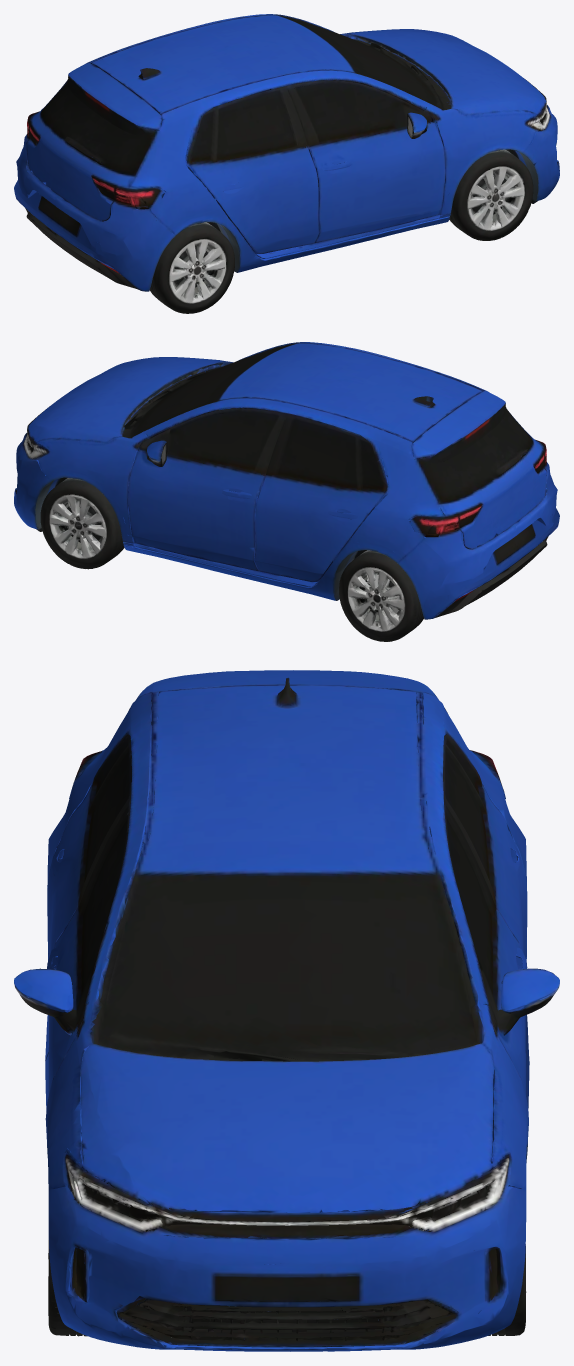
File: hatch.glb
The picture shows the model from 3 angles, top to bottom: view 1: azimuth 30°, elevation 25°; view 2: azimuth 150°, elevation 25°; view 3: azimuth 270°, elevation 25°; orthographic projection. The views are drawn at different scales.
Parts seen in each view (by area): view 1: tripo_node_4523f8f4-e891-464a-8ad8-ec9c19bd628b; view 2: tripo_node_4523f8f4-e891-464a-8ad8-ec9c19bd628b; view 3: tripo_node_4523f8f4-e891-464a-8ad8-ec9c19bd628b.
Boxes of the visible parts, <box> form: tripo_node_4523f8f4-e891-464a-8ad8-ec9c19bd628b: <box>14,14,559,313</box>; tripo_node_4523f8f4-e891-464a-8ad8-ec9c19bd628b: <box>14,342,559,641</box>; tripo_node_4523f8f4-e891-464a-8ad8-ec9c19bd628b: <box>14,670,559,1351</box>.
Bounding box in the file's own units: 0.9801 × 0.392 × 0.5136.
Materials: 1 (1 with a texture image).
